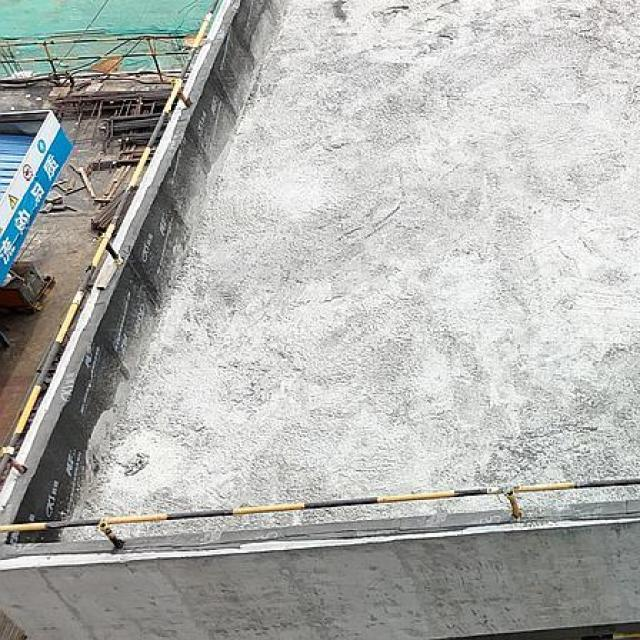edge_guardrail: (1, 0, 219, 491), (0, 480, 640, 550), (0, 34, 196, 82)
